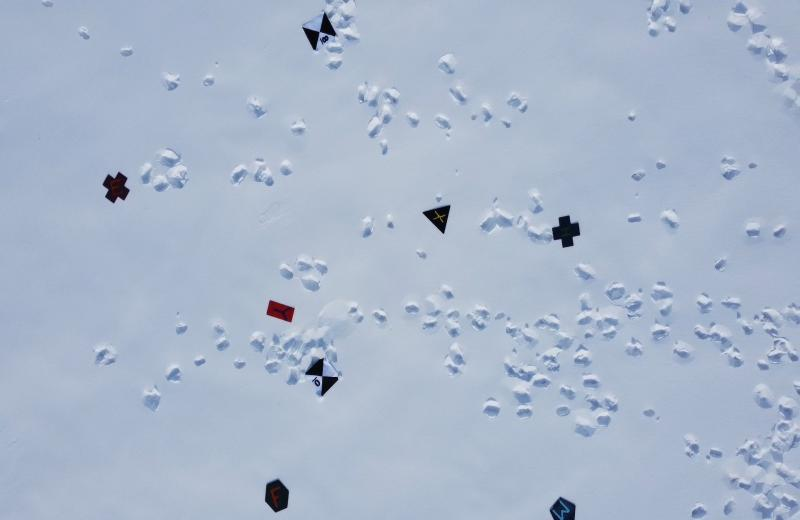Cross: (552, 215, 581, 248), (103, 173, 129, 203)
Hexagon: (260, 480, 291, 514)
Pentagon: (546, 493, 577, 520)
Rectangle: (264, 297, 295, 325)
Triangle: (422, 205, 454, 238)
